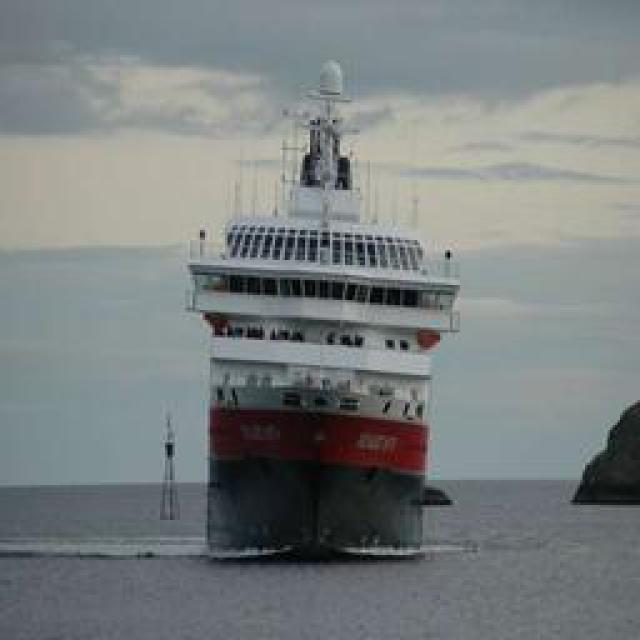Ship: (193, 44, 468, 557)
